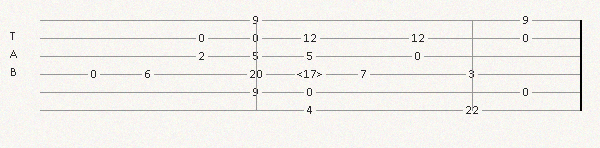0: (90, 68, 101, 80), (198, 32, 209, 44), (252, 32, 263, 44), (306, 86, 317, 98), (414, 50, 425, 62), (522, 86, 533, 98), (522, 32, 533, 44)
12: (303, 32, 321, 44), (411, 32, 429, 44)
2: (198, 50, 209, 62)
20: (249, 68, 267, 80)
22: (465, 104, 483, 116)
3: (468, 68, 479, 80)
4: (306, 104, 317, 116)
5: (252, 50, 263, 62), (306, 50, 317, 62)
6: (144, 68, 155, 80)
7: (360, 68, 371, 80)
9: (252, 86, 263, 98), (252, 14, 263, 26), (522, 14, 533, 26)
harmonic: (297, 68, 327, 80)
